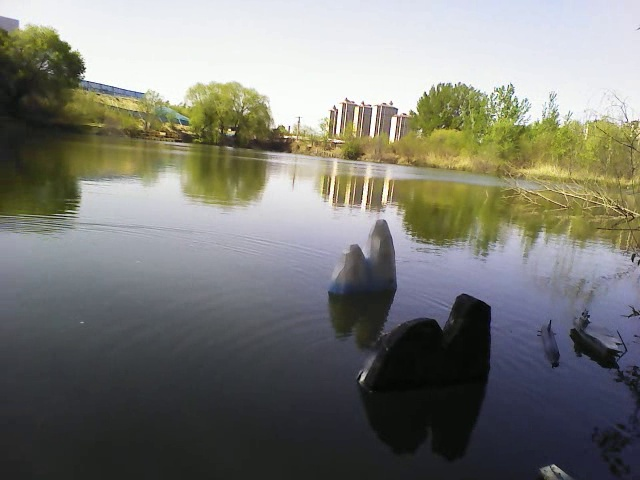aircraft_carrier: (576, 306, 628, 356)
iceberg: (326, 220, 405, 297)
rock: (354, 292, 501, 393)
submarine: (536, 317, 564, 367)
